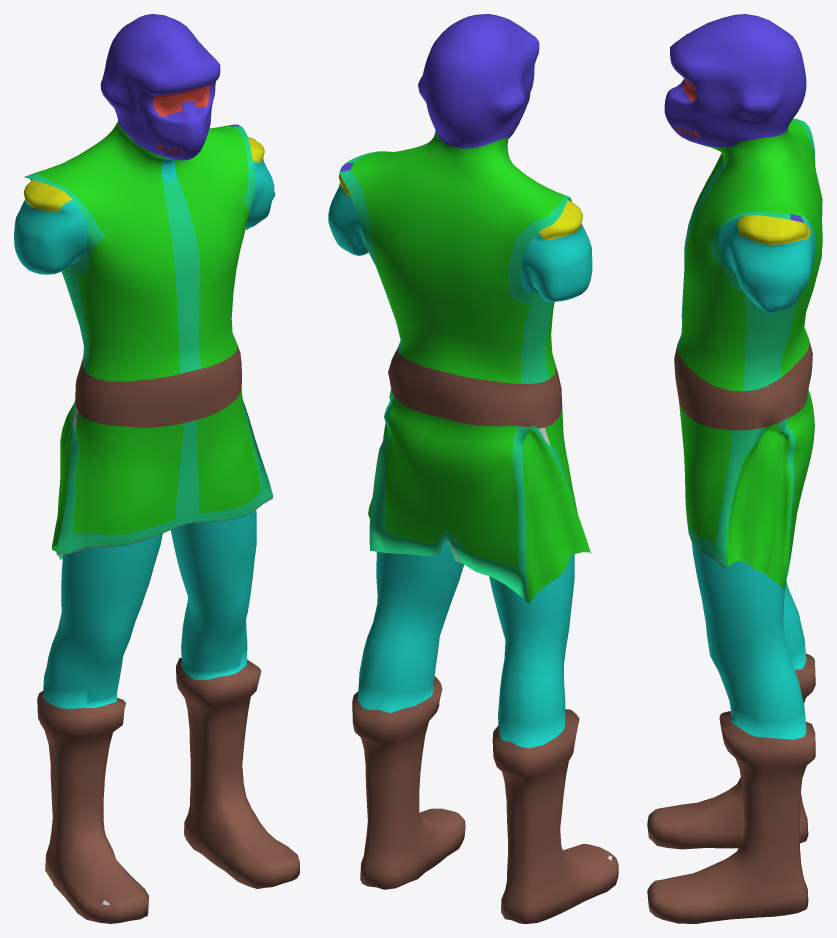
File: Gravitix_Low.fbx
3 renders of one model, left to right at view 1: azimuth 30°, elevation 25°; view 2: azimuth 150°, elevation 25°; view 3: azimuth 270°, elevation 25°, orthographic.
Parts seen in each view (by area): view 1: Model4_Low; view 2: Model4_Low; view 3: Model4_Low.
Boxes of the visible parts, bbox=[...] form: Model4_Low: bbox=[14, 14, 299, 923]; Model4_Low: bbox=[328, 14, 618, 923]; Model4_Low: bbox=[647, 14, 822, 923].
Bounding box in the file's own units: 55.13 × 182 × 33.74.
